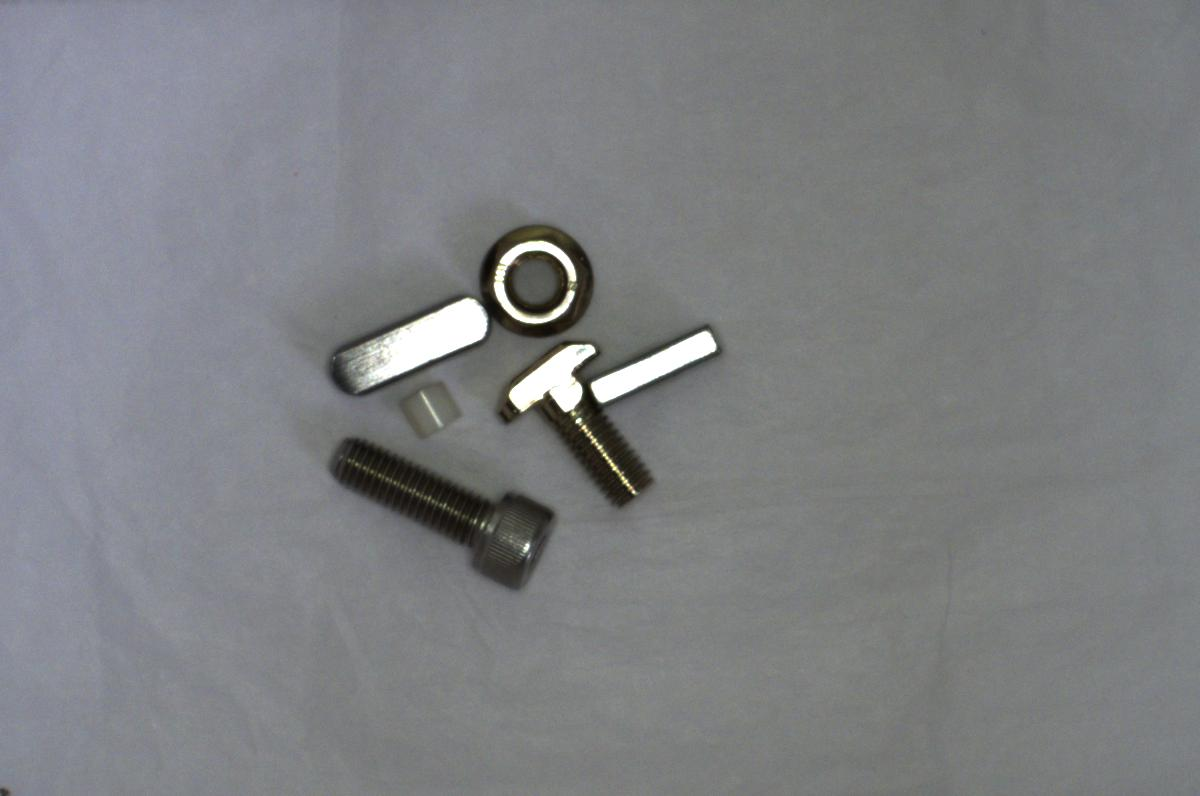Flange nut: (475, 213, 597, 338)
Hexagon screw: (321, 434, 559, 588)
Keybar: (321, 293, 486, 398)
Plastic cushion pillar: (392, 383, 461, 440)
Rectangular nut: (588, 323, 721, 408)
T-shaped screw: (505, 338, 660, 516)
